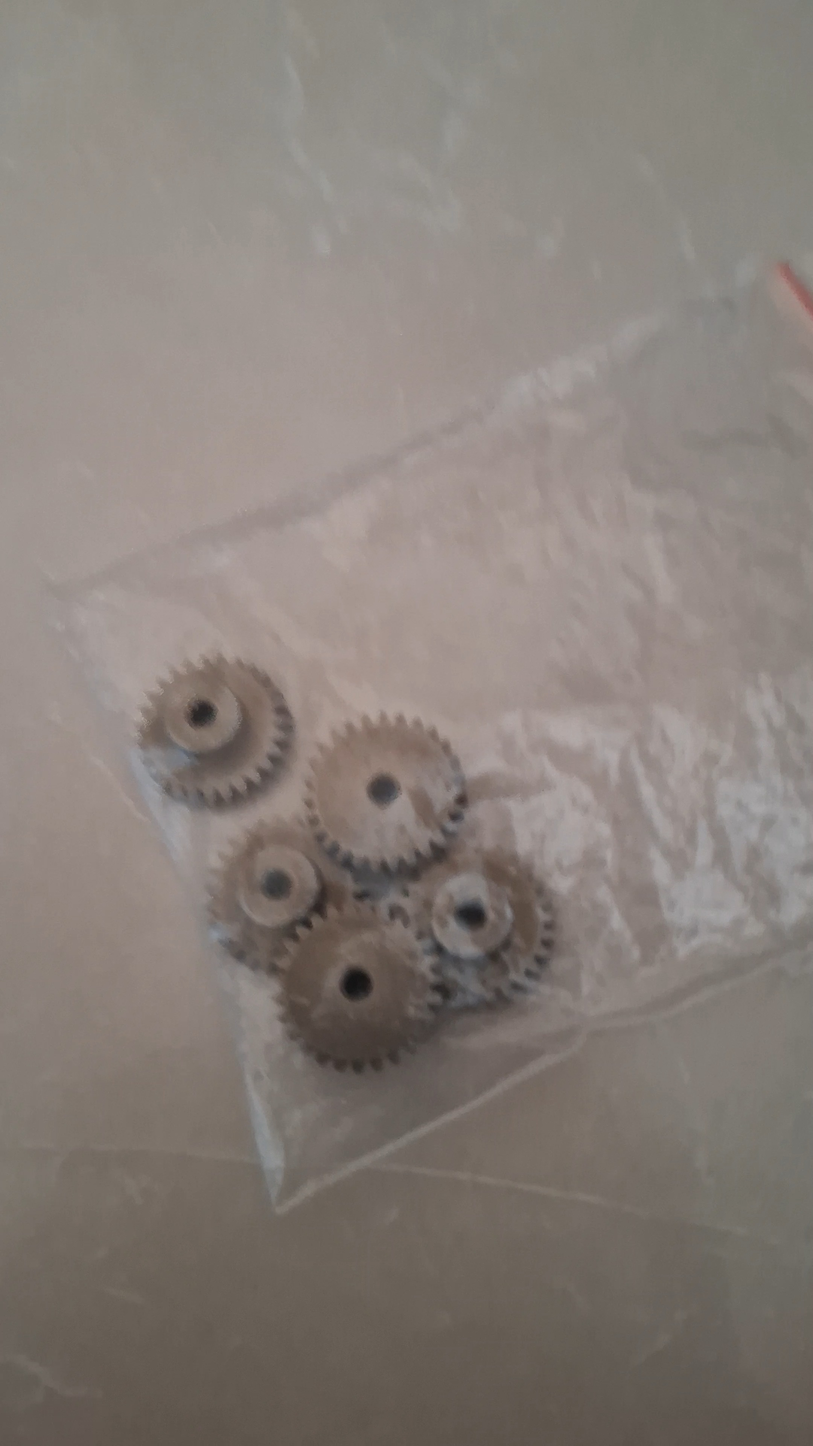spur gear: (279, 905, 441, 1071), (384, 850, 554, 1004), (306, 715, 466, 873), (137, 656, 293, 806), (208, 823, 349, 971)
